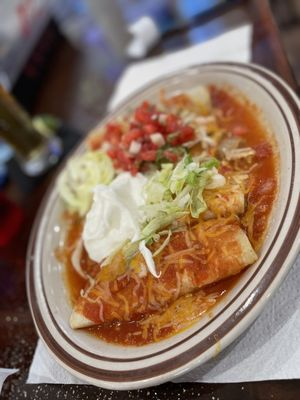pizza: (0, 83, 65, 178)
